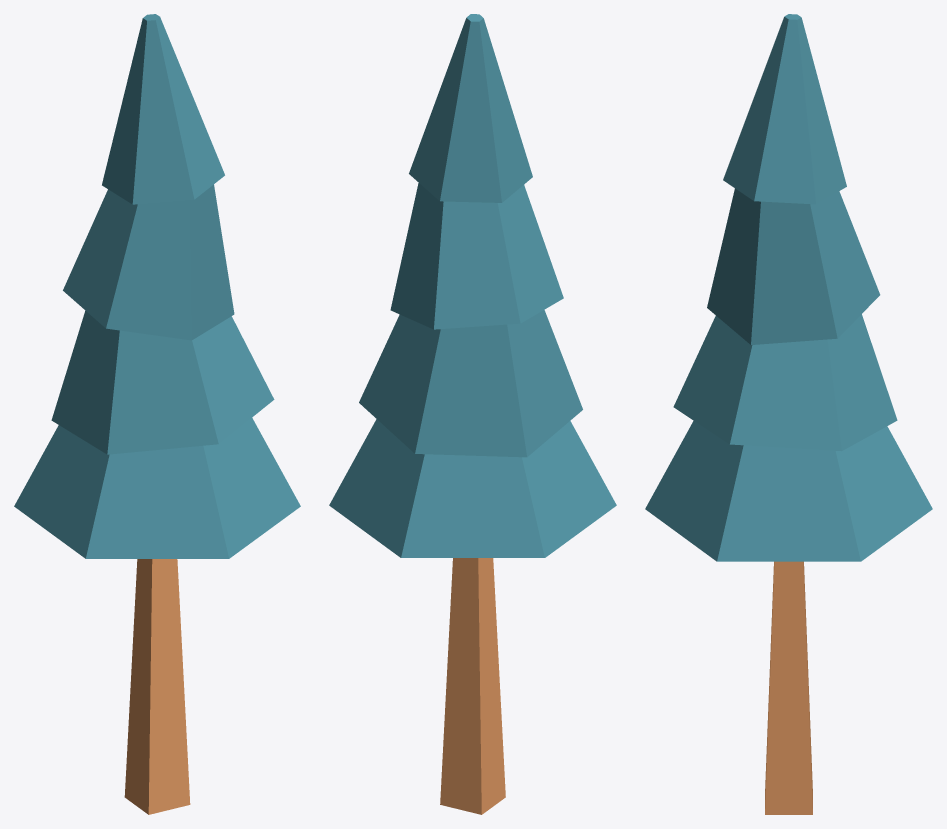
Rendered from tree_pine_short.fbx.
3 views of the same model, side by side, from view 1: azimuth 30°, elevation 25°; view 2: azimuth 150°, elevation 25°; view 3: azimuth 270°, elevation 25° (orthographic).
Parts seen in each view (by area): view 1: tree_pine_short; view 2: tree_pine_short; view 3: tree_pine_short.
Boxes of the visible parts, x1,y1,x2,y2 form: tree_pine_short: (14,14,300,814); tree_pine_short: (329,14,616,814); tree_pine_short: (645,14,932,814).
Size of the model in its own units: 4.8 by 16.72 by 5.55.
